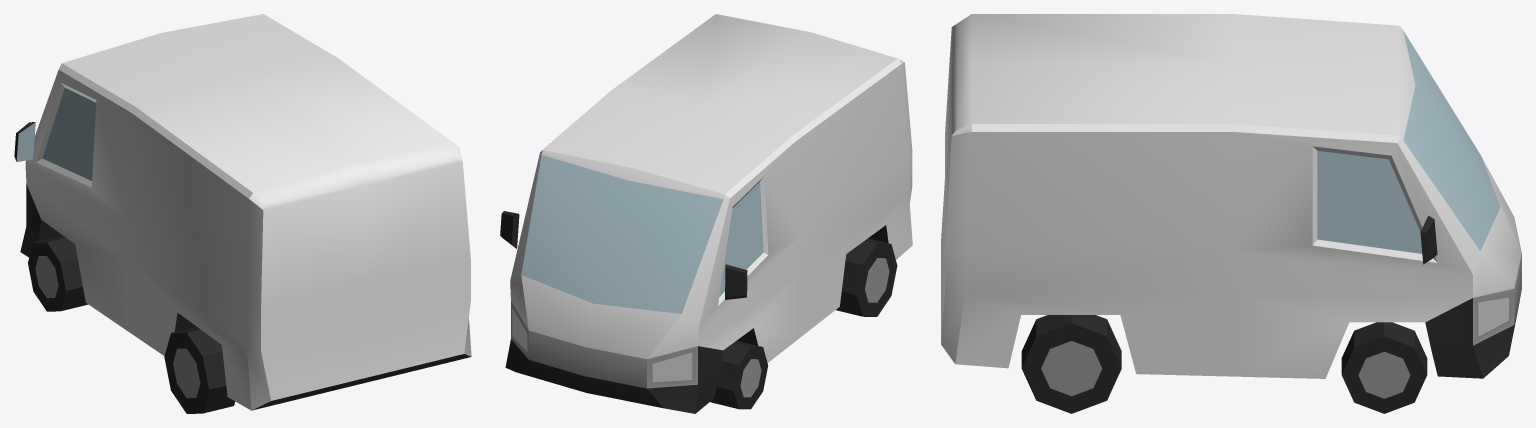
The model's file is van.fbx.
3 renders of one model, left to right at view 1: azimuth 30°, elevation 25°; view 2: azimuth 150°, elevation 25°; view 3: azimuth 270°, elevation 25°, orthographic. The views are drawn at different scales.
Visible parts, largest first — view 1: recto.002; view 2: recto.002; view 3: recto.002.
Part boxes in pixels (left/top/right/bottom): recto.002: left=14, top=14, right=471, bottom=413; recto.002: left=500, top=14, right=912, bottom=413; recto.002: left=941, top=14, right=1521, bottom=413.
Bounding box in the file's own units: 0.3578 × 0.3199 × 0.593.
